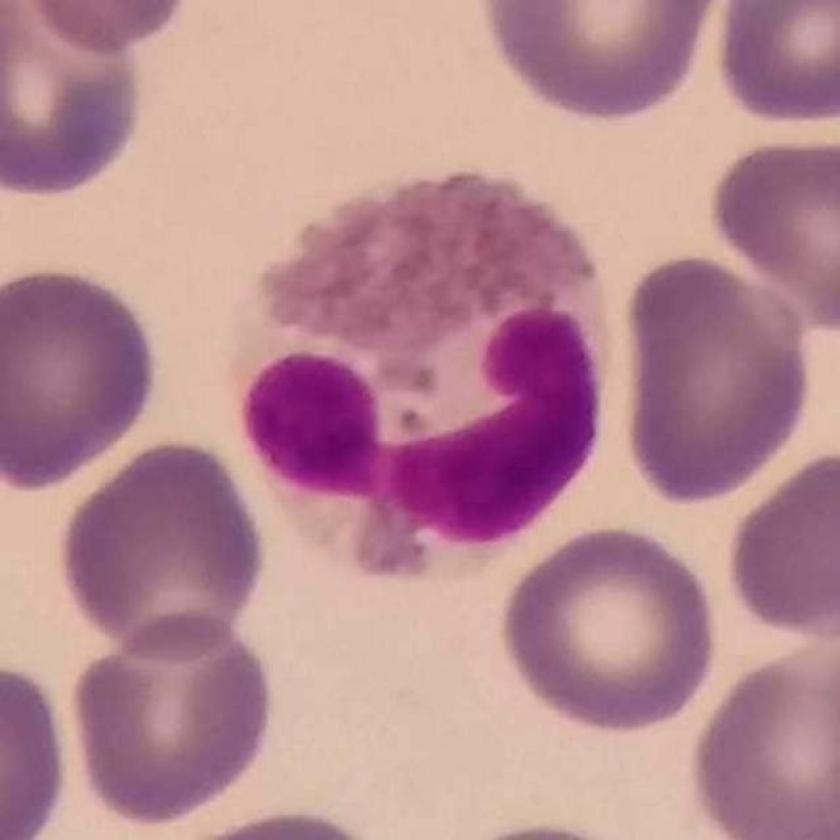eosinophil: (232, 163, 634, 588)
